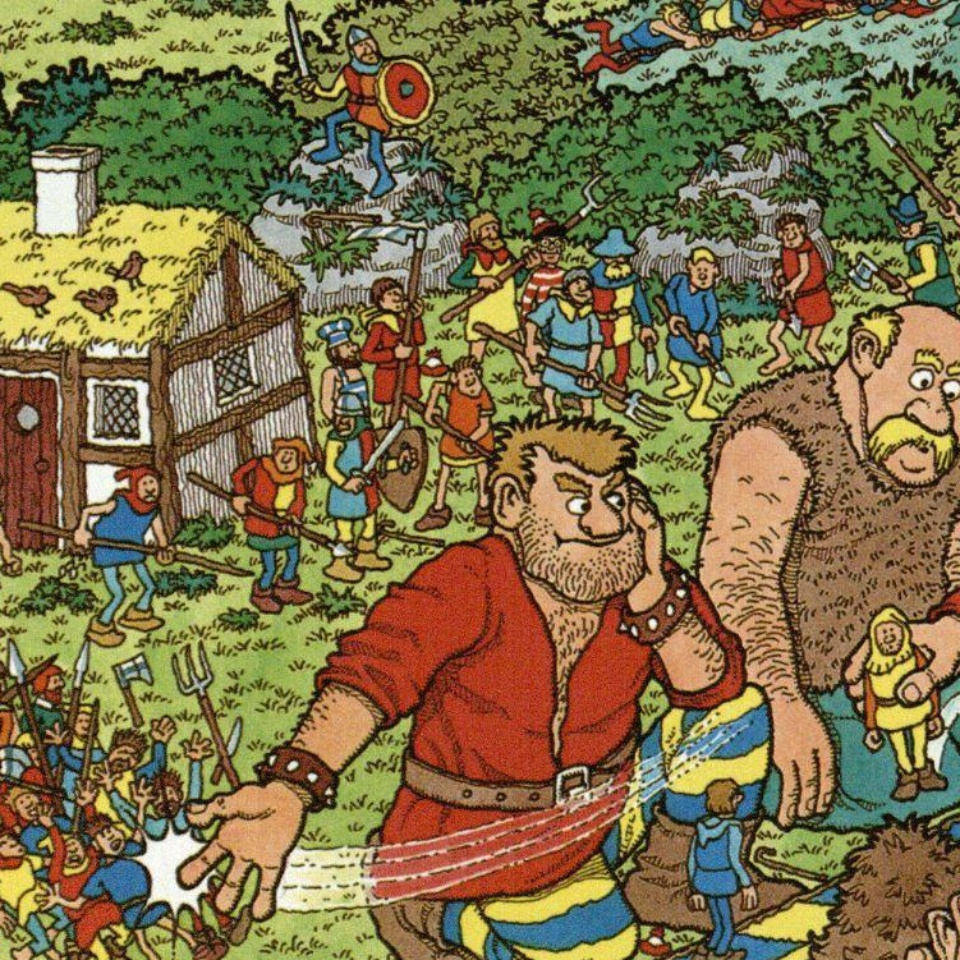waldo: (529, 211, 573, 266)
